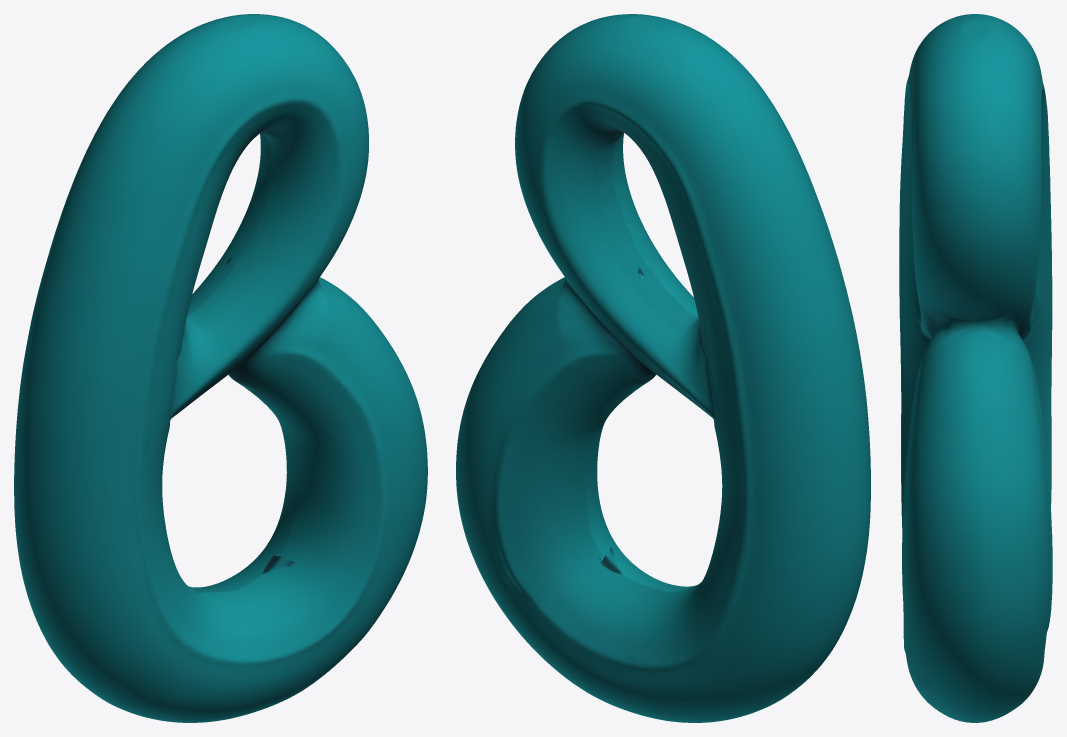
The model's file is mat_exp.glb.
3 renders of one model, left to right at view 1: azimuth 30°, elevation 25°; view 2: azimuth 150°, elevation 25°; view 3: azimuth 270°, elevation 25°, orthographic.
Visible parts, largest first — view 1: world; view 2: world; view 3: world.
Part boxes in pixels (x1,y1,x2,y2): world: [14, 14, 427, 722]; world: [456, 14, 870, 722]; world: [899, 14, 1052, 722].
Bounding box in the file's own units: 1.18 × 1.94 × 0.3976.
1 material, 1 textured.
